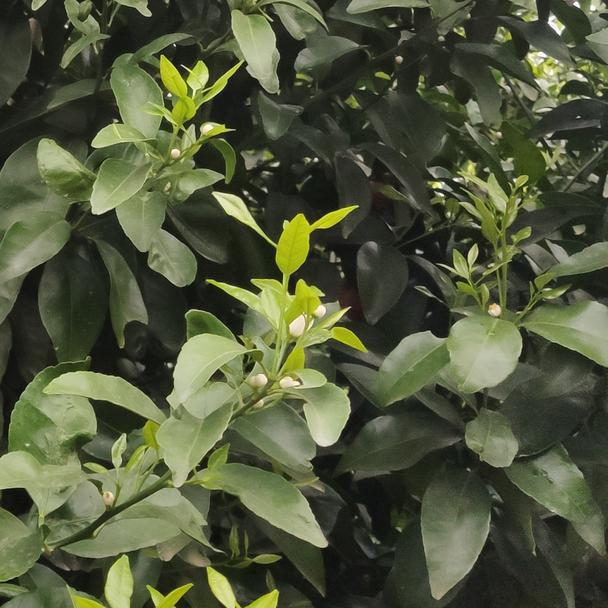shoot: (237, 191, 351, 380), (150, 59, 239, 158), (470, 167, 536, 293), (444, 245, 497, 320)
